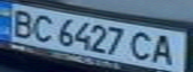2: (87, 21, 109, 55)
4: (72, 20, 93, 52)
6: (51, 17, 78, 47)
7: (106, 25, 130, 57)
A: (148, 32, 184, 66)
B: (3, 7, 39, 38)
C: (127, 29, 160, 62), (27, 11, 57, 43)
